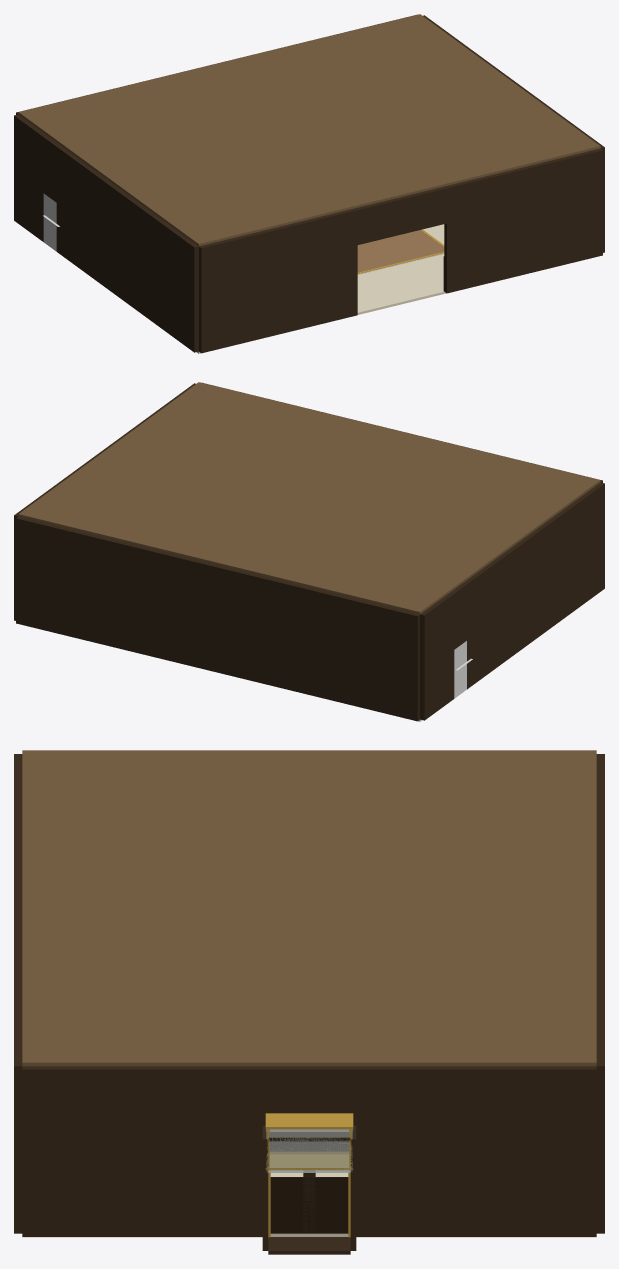
3 renders of one model, top to bottom at view 1: azimuth 30°, elevation 25°; view 2: azimuth 150°, elevation 25°; view 3: azimuth 270°, elevation 25°, orthographic. The views are drawn at different scales.
Visible parts, largest first — view 1: Z2_Ceiling, Z2_Wall_S_Seg_L, Z2_Wall_S_Seg_R, Z2_Wall_W_Seg_S, Z2_Floor, Z2_Wall_S_Lintel, Z2_Wall_W_Seg_N, Z2_DanceFloor, Z2_Wall_W_Lintel, Z2_HiddenDoor_MARK; view 2: Z2_Ceiling, Z2_Wall_N, Z2_Wall_W_Seg_S, Z2_Wall_W_Seg_N, Z2_Wall_W_Lintel, Z2_HiddenDoor_MARK; view 3: Z2_Ceiling, Z2_Wall_E_S, Z2_Wall_E_N, Z2_Wall_E_Lintel, Z2_Panel_E, Z2_Wall_N, Z2_CorrE_GlassPanel, Z2_Wall_S_Seg_R, Z2_CorrE_GlassFrame_T, Z2_CorrE_Floor, Z2_CorrE_GlassFrame_B, Z2_Wall_S_Seg_L (+4 smaller).
Boxes of the visible parts, left/top/right/bottom form: Z2_Ceiling: left=18, top=14, right=600, bottom=246; Z2_Wall_S_Seg_L: left=199, top=208, right=357, bottom=353; Z2_Wall_S_Seg_R: left=444, top=148, right=602, bottom=293; Z2_Wall_W_Seg_S: left=56, top=145, right=198, bottom=352; Z2_Floor: left=196, top=224, right=446, bottom=353; Z2_Wall_S_Lintel: left=355, top=186, right=446, bottom=244; Z2_Wall_W_Seg_N: left=14, top=114, right=47, bottom=241; Z2_DanceFloor: left=357, top=230, right=444, bottom=272; Z2_Wall_W_Lintel: left=43, top=136, right=60, bottom=202; Z2_HiddenDoor_MARK: left=43, top=193, right=56, bottom=251; Z2_Ceiling: left=18, top=382, right=600, bottom=614; Z2_Wall_N: left=16, top=516, right=419, bottom=721; Z2_Wall_W_Seg_S: left=463, top=482, right=604, bottom=689; Z2_Wall_W_Seg_N: left=420, top=593, right=454, bottom=720; Z2_Wall_W_Lintel: left=450, top=583, right=466, bottom=649; Z2_HiddenDoor_MARK: left=454, top=641, right=466, bottom=698; Z2_Ceiling: left=22, top=750, right=596, bottom=1066; Z2_Wall_E_S: left=22, top=1066, right=268, bottom=1236; Z2_Wall_E_N: left=350, top=1066, right=596, bottom=1236; Z2_Wall_E_Lintel: left=268, top=1066, right=350, bottom=1151; Z2_Panel_E: left=270, top=1177, right=348, bottom=1233; Z2_Wall_N: left=596, top=754, right=604, bottom=1233; Z2_CorrE_GlassPanel: left=266, top=1129, right=352, bottom=1172; Z2_Wall_S_Seg_R: left=14, top=944, right=22, bottom=1233; Z2_CorrE_GlassFrame_T: left=265, top=1113, right=353, bottom=1129; Z2_CorrE_Floor: left=268, top=1237, right=350, bottom=1254; Z2_CorrE_GlassFrame_B: left=265, top=1154, right=352, bottom=1170; Z2_Wall_S_Seg_L: left=14, top=754, right=22, bottom=875.
Size of the model in its own units: 19.3 by 4.7 by 14.4.
